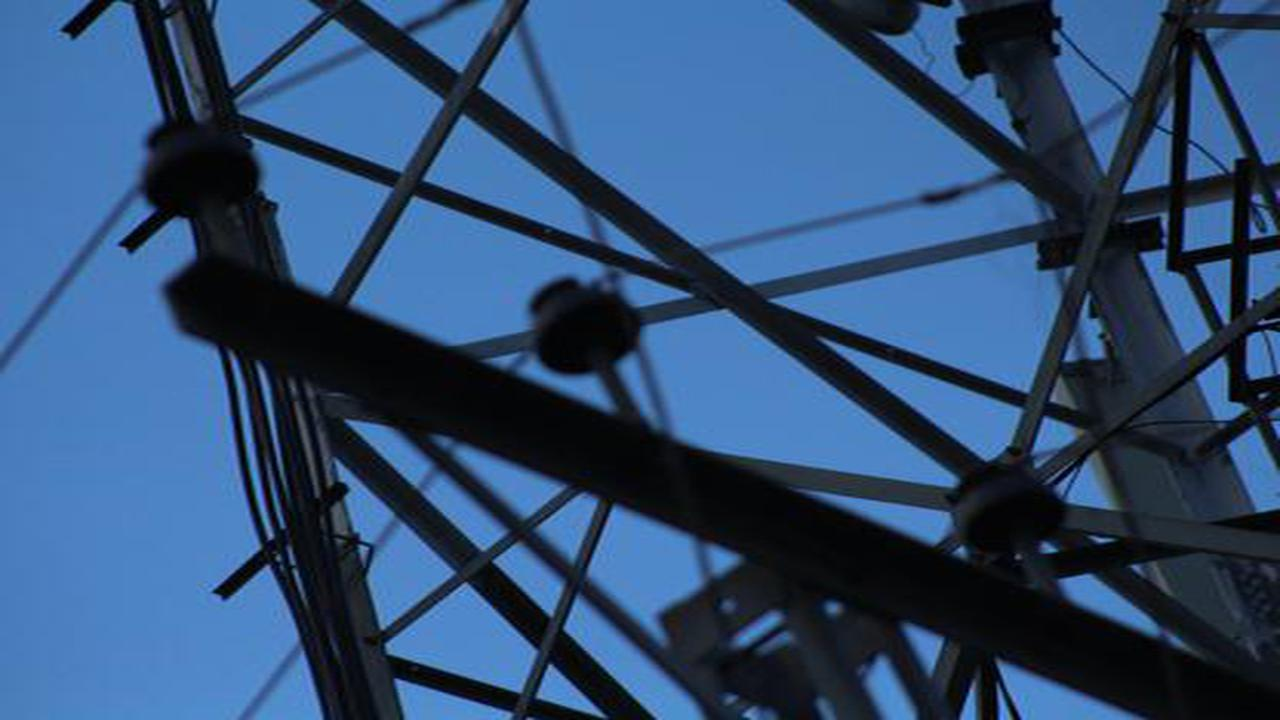insulator_pin: (524, 268, 648, 384), (946, 457, 1068, 562), (138, 116, 265, 216)
